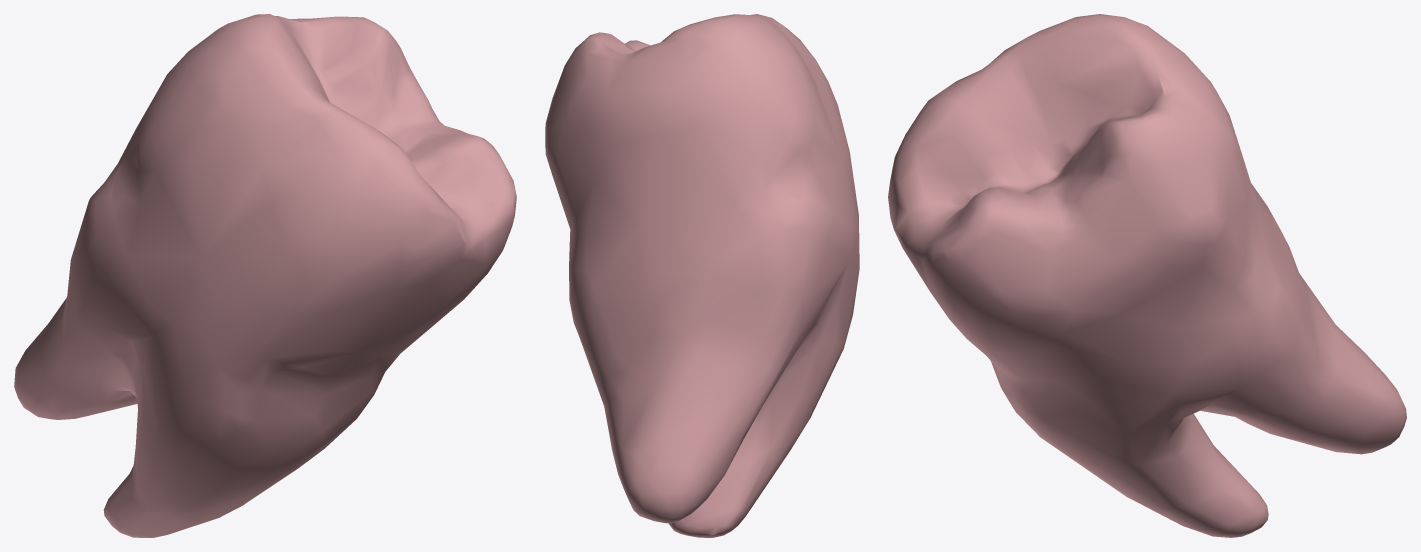
Rendered from fma55706_fj1270.glb.
3 renders of one model, left to right at view 1: azimuth 30°, elevation 25°; view 2: azimuth 150°, elevation 25°; view 3: azimuth 270°, elevation 25°, orthographic. The views are drawn at different scales.
Parts seen in each view (by area): view 1: FMA55706_FJ1270; view 2: FMA55706_FJ1270; view 3: FMA55706_FJ1270.
Part boxes in pixels (x1,y1,x2,y2): FMA55706_FJ1270: (14,14,516,537); FMA55706_FJ1270: (545,14,859,537); FMA55706_FJ1270: (888,14,1406,537).
Size of the model in its own units: 0.0121 by 0.0187 by 0.0165.
